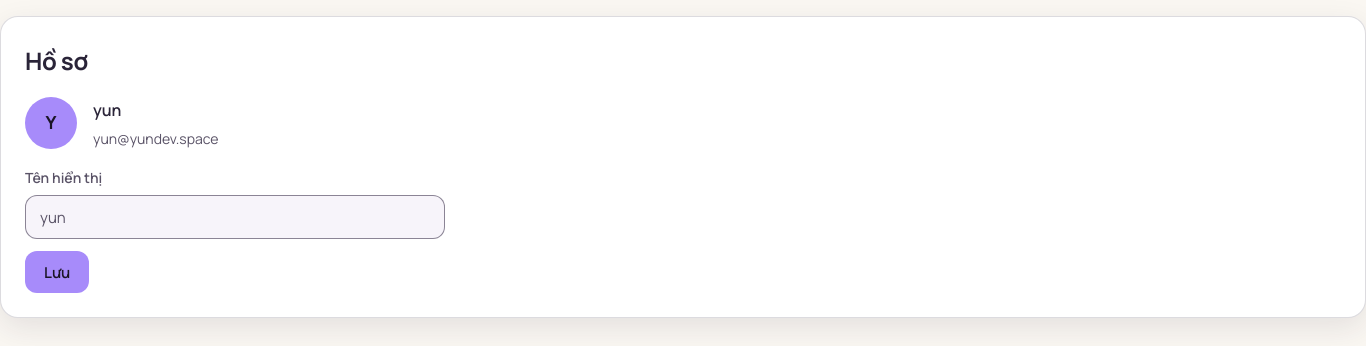
Test: ProfilePage › shows error alert when save fails
The width and height of the screenshot is (1366, 346).
expect the text "Y" is shown: met, box [25,97,77,149]
Type "New Name" into the field labelled "Tên hiển thị".
click(235, 217); type("New Name")  # box [25,195,445,239]
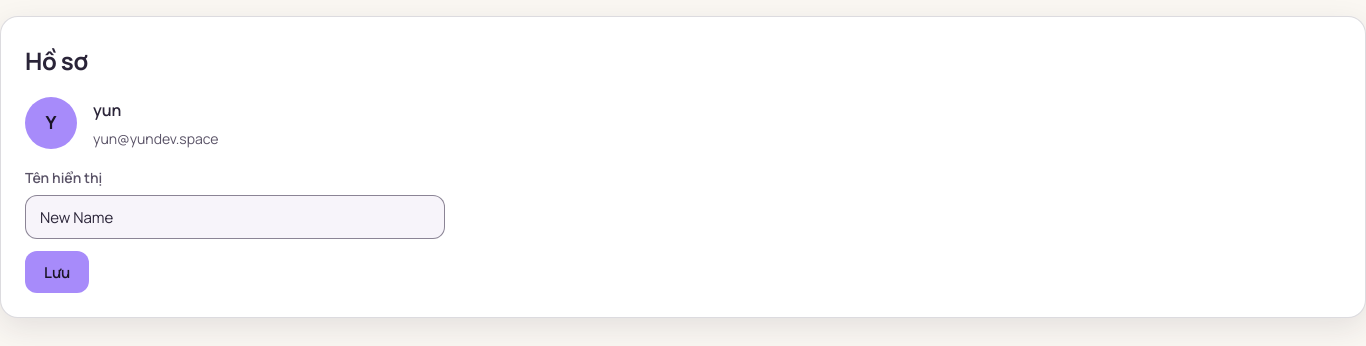
Click the button "Lưu".
click(57, 272)  # box [25,251,89,293]
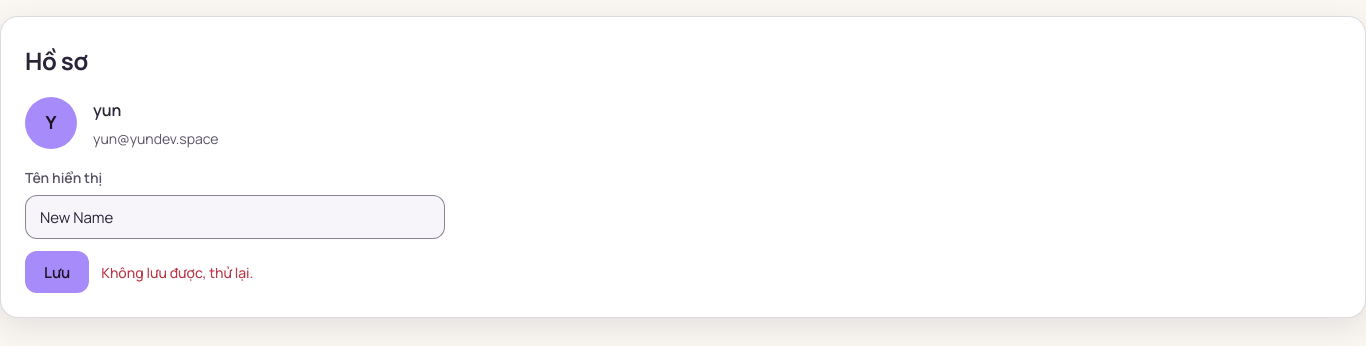
expect the message reads "Không lưu được, thử lại.": met, box [101,263,253,282]
